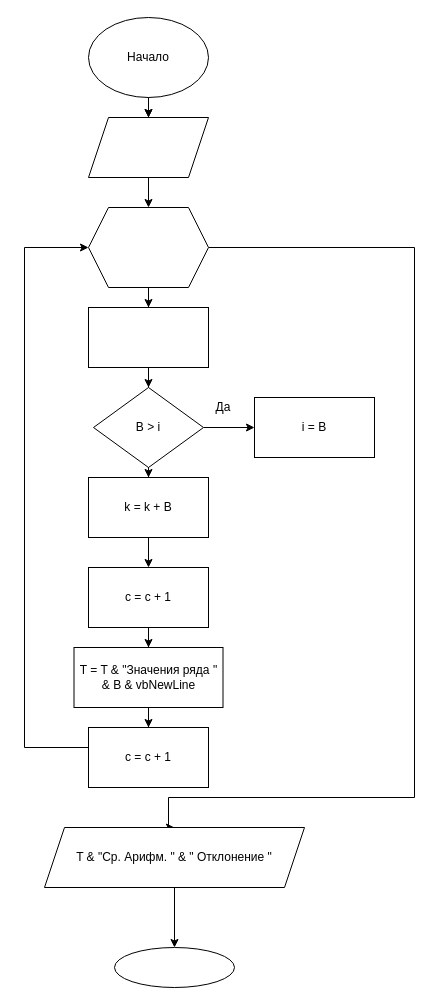
Image size: 440x1005. Some labels were removed from this diagram. The shapes that lost their labels are listed below. From the top down, each one's centre as x and y in pixels, then its label:
At point (148, 147): "N, i , k, c".
At point (148, 247): "N > c".
At point (148, 337): "B = Int(Rnd*89)+10".
At point (174, 967): "Конец".
